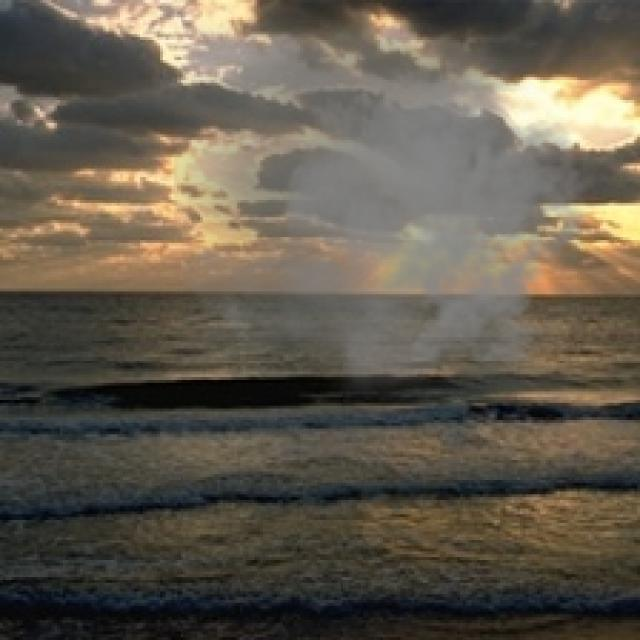Smoke: (174, 17, 597, 403)
